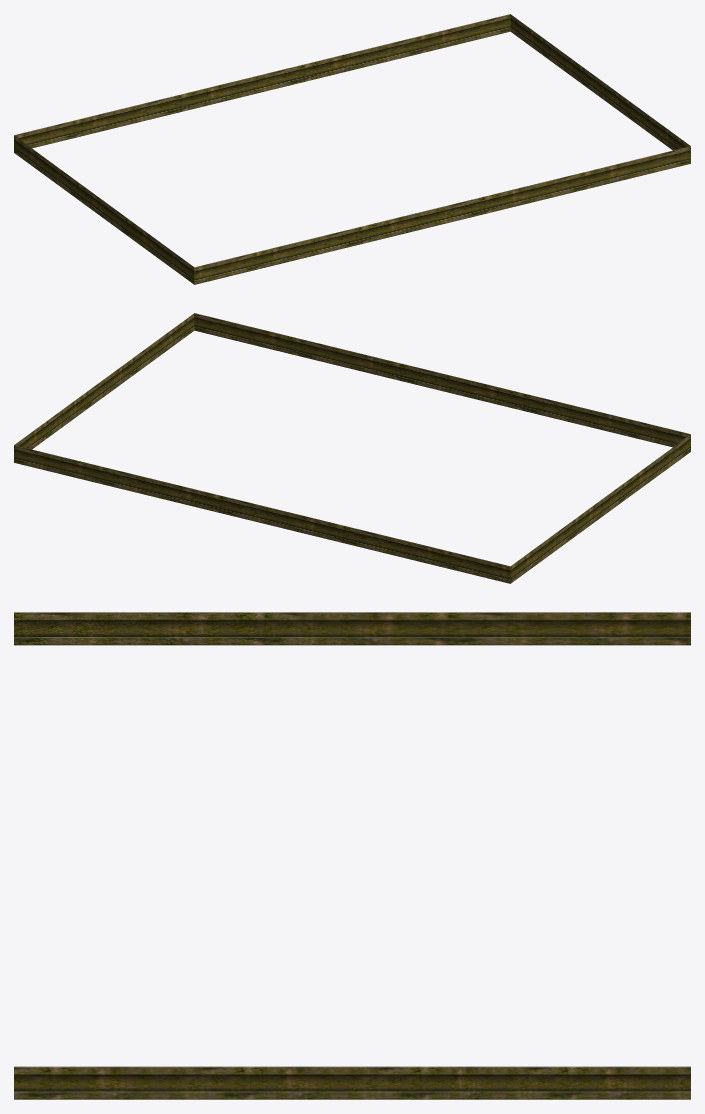
File: OVERHILL_A_01_OBJECT115.fbx
The picture shows the model from 3 angles, top to bottom: view 1: azimuth 30°, elevation 25°; view 2: azimuth 150°, elevation 25°; view 3: azimuth 270°, elevation 25°; orthographic projection. The views are drawn at different scales.
Parts seen in each view (by area): view 1: OVERHILL_A_01_OBJECT115; view 2: OVERHILL_A_01_OBJECT115; view 3: OVERHILL_A_01_OBJECT115.
Part boxes in pixels (x1,y1,x2,y2): OVERHILL_A_01_OBJECT115: [14, 14, 690, 284]; OVERHILL_A_01_OBJECT115: [14, 313, 690, 583]; OVERHILL_A_01_OBJECT115: [14, 612, 690, 1099].
Bounding box in the file's own units: 233927 × 7919 × 147276.
Materials: 1 (1 with a texture image).
